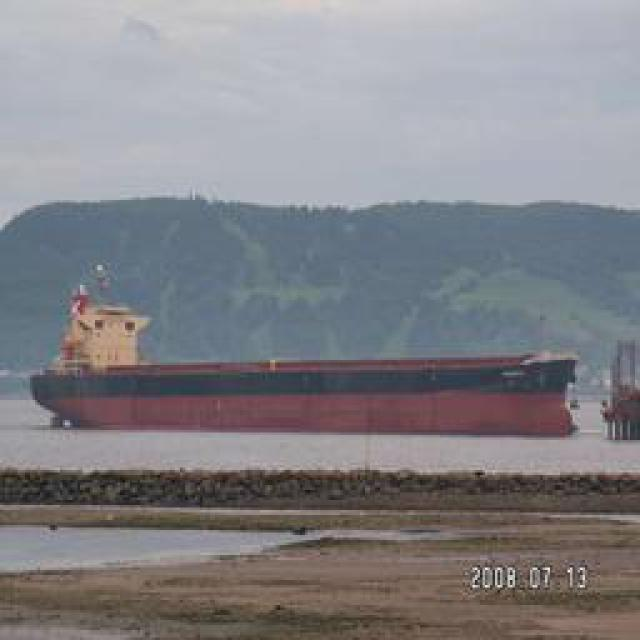Ship: (34, 316, 584, 439)
